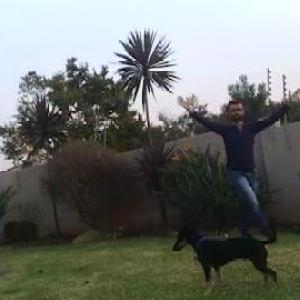takeoff: (183, 83, 300, 218)
